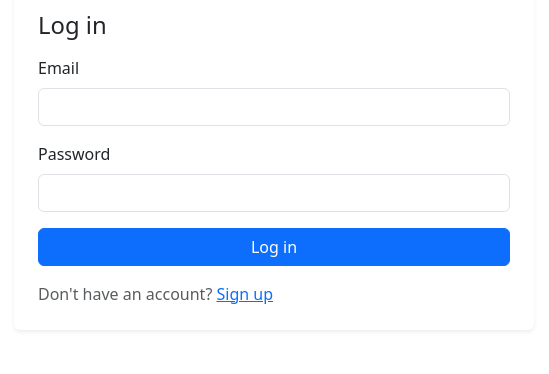
it: LoginPage › shows validation error when password is empty
Type "test@example.com" into the field labelled "Email". click: point(274, 107)
box: x1=38 y1=88 x2=510 y2=126
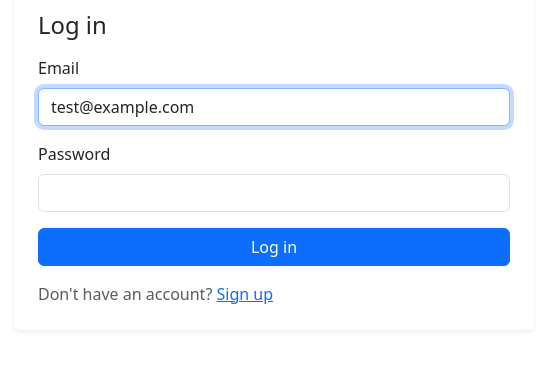
Click the button "Log in". click: point(274, 247)
box: x1=38 y1=228 x2=510 y2=266
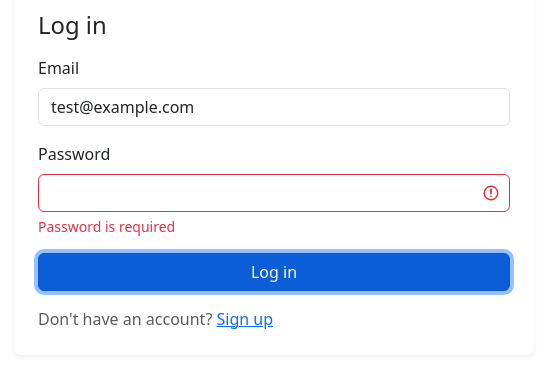
expect the text "Password is required" is shown: met, box x1=38 y1=217 x2=175 y2=236
